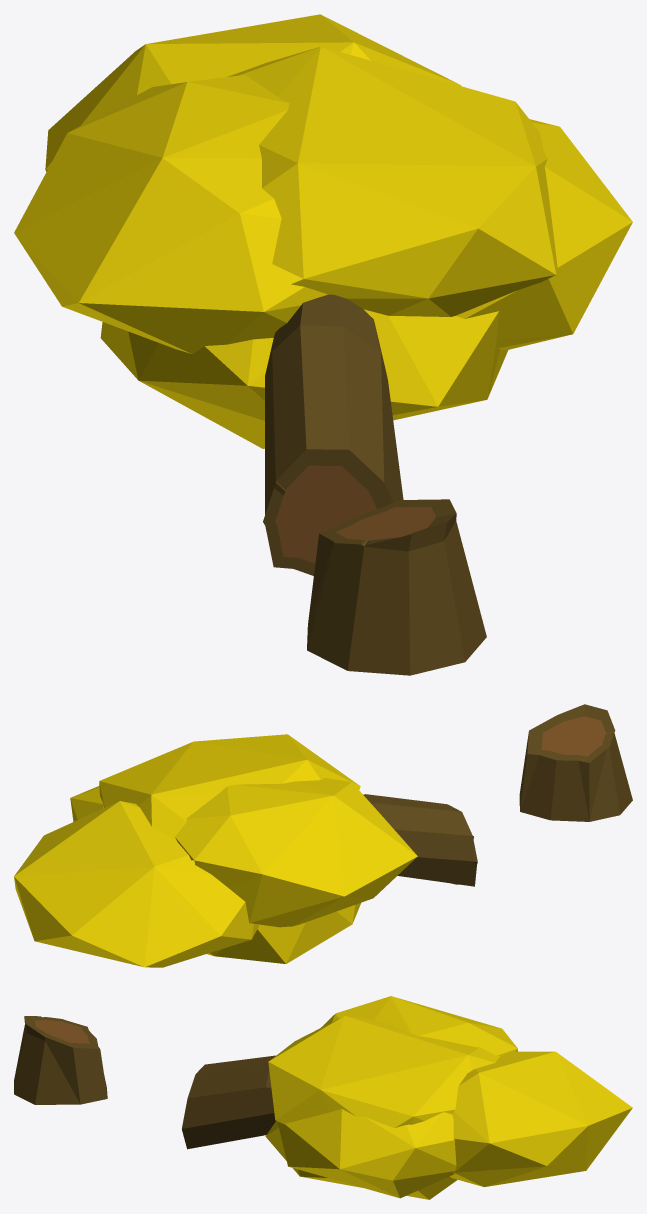
Rendered from Tree#15.fbx.
3 views of the same model, one above another, from view 1: azimuth 30°, elevation 25°; view 2: azimuth 150°, elevation 25°; view 3: azimuth 270°, elevation 25° (orthographic). The views are drawn at different scales.
Parts seen in each view (by area): view 1: Tree#15; view 2: Tree#15; view 3: Tree#15.
Boxes of the visible parts, x1=… form: Tree#15: x1=14, y1=14, x2=632, y2=675; Tree#15: x1=14, y1=704, x2=632, y2=967; Tree#15: x1=14, y1=996, x2=632, y2=1199.
Size of the model in its own units: 461 by 223 by 795.
